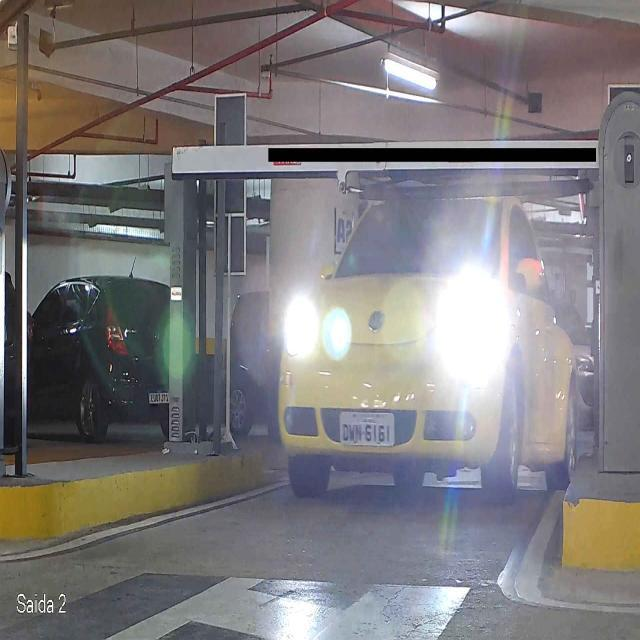old_plate: (338, 410, 396, 449)
